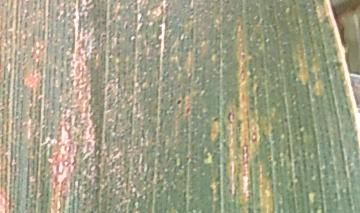tarspot: (175, 97, 184, 107)
